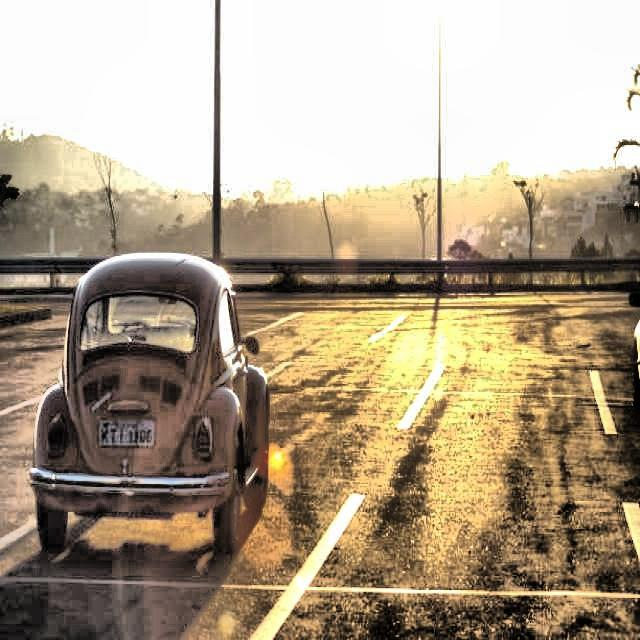carro: (21, 250, 272, 549)
